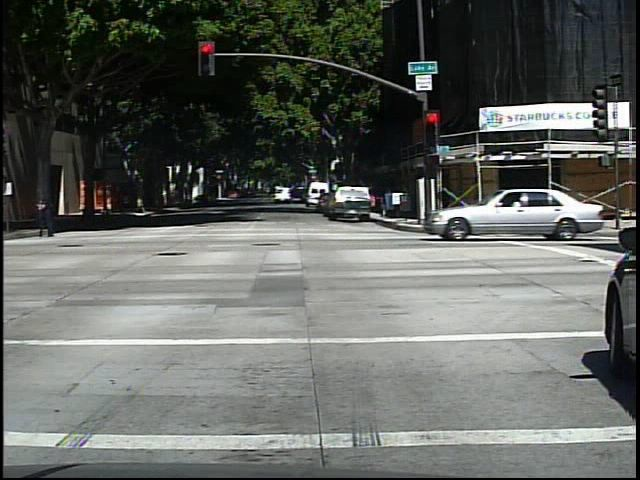person: (33, 188, 63, 241)
